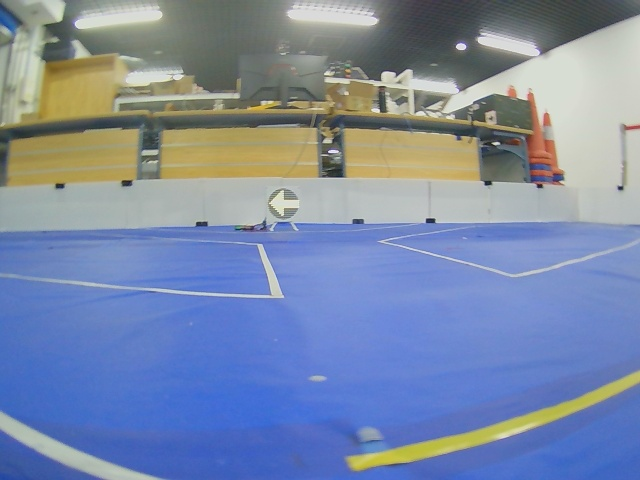left_yellow: (268, 188, 300, 220)
